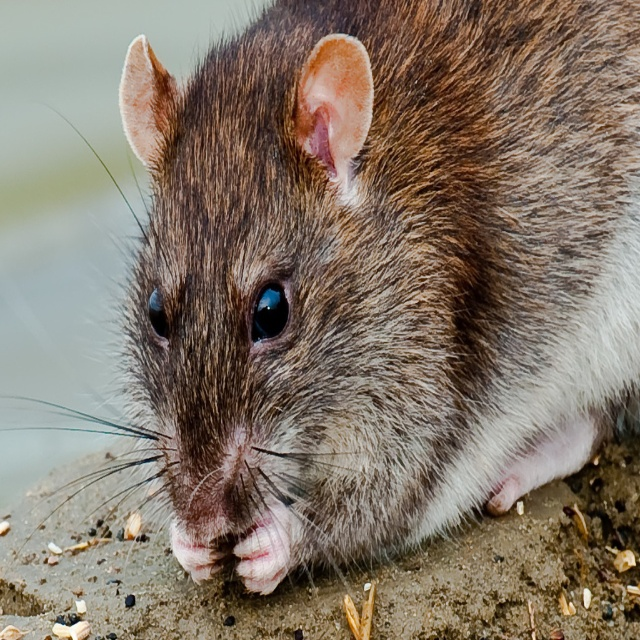Mouse: (0, 0, 639, 603)
